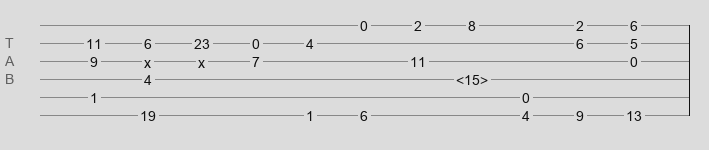0: (252, 36, 260, 46), (360, 18, 368, 28), (522, 90, 530, 100), (630, 54, 638, 64)
1: (90, 90, 98, 100), (306, 108, 314, 118)
11: (86, 36, 102, 46), (410, 54, 426, 64)
13: (626, 108, 642, 118)
19: (140, 108, 156, 118)
2: (414, 18, 422, 28), (576, 18, 584, 28)
23: (194, 36, 210, 46)
4: (144, 72, 152, 82), (306, 36, 314, 46), (522, 108, 530, 118)
5: (630, 36, 638, 46)
6: (144, 36, 152, 46), (360, 108, 368, 118), (576, 36, 584, 46), (630, 18, 638, 28)
7: (252, 54, 260, 64)
8: (468, 18, 476, 28)
9: (90, 54, 98, 64), (576, 108, 584, 118)
harmonic: (456, 72, 488, 82)
x: (144, 55, 151, 63), (198, 55, 205, 63)
